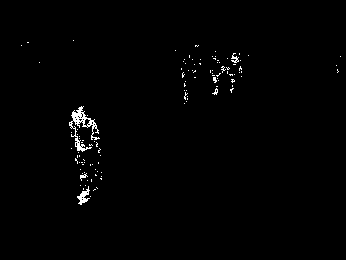person: (68, 105, 105, 207), (226, 50, 245, 97), (208, 50, 226, 98)
